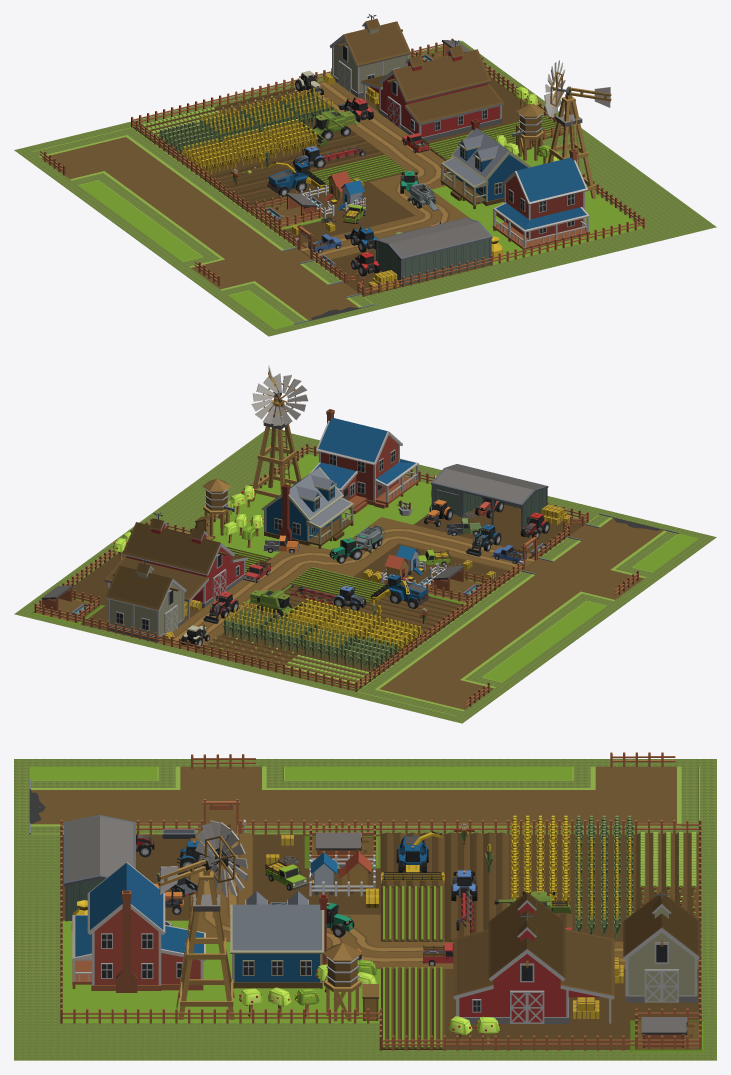
Rendered from homestead2.glb.
3 renders of one model, top to bottom at view 1: azimuth 30°, elevation 25°; view 2: azimuth 150°, elevation 25°; view 3: azimuth 270°, elevation 25°, orthographic. The views are drawn at different scales.
Parts seen in each view (by area): view 1: Plane, Building_Barn_Big_01, Building_Farm_House_03, Building_Shed_01, Building_Cottage_03, road_Dirt_Corner, Building_Barn_Small_03, Env_Grass, road_Dirt_Straight, road_Dirt_Intersection, Env_Dirt, road_Dirt_Straight_2 (+35 smaller); view 2: Plane, Building_Farm_House_03, Building_Barn_Big_01, Building_Cottage_03, Building_Barn_Small_03, Building_Shed_01, road_Dirt_Corner, Env_Grass, road_Dirt_Straight, road_Dirt_Intersection, road_Dirt_Straight_2, Env_Dirt_2 (+37 smaller); view 3: Plane, Building_Barn_Big_01, Building_Farm_House_03, Env_Grass, Building_Cottage_03, Building_Barn_Small_03, road_Dirt_Corner, Env_Dirt_1, road_Dirt_Intersection, Env_Dirt_Plough, road_Dirt_Straight, Env_Crop_Seedling_1 (+50 smaller).
Boxes of the visible parts, box(x1,y1,x2,y2) form: Plane: box(14, 41, 716, 336); Building_Barn_Big_01: box(361, 40, 504, 141); Building_Farm_House_03: box(492, 148, 589, 252); Building_Shed_01: box(375, 217, 492, 285); Building_Cottage_03: box(440, 119, 530, 209); road_Dirt_Corner: box(32, 127, 189, 188); Building_Barn_Small_03: box(330, 14, 410, 97); Env_Grass: box(432, 145, 642, 256); road_Dirt_Straight: box(150, 169, 292, 255); road_Dirt_Intersection: box(182, 238, 299, 298); Env_Dirt: box(248, 182, 413, 244); road_Dirt_Straight_2: box(110, 179, 230, 248); Plane: box(14, 428, 716, 723); Building_Farm_House_03: box(309, 409, 419, 513); Building_Barn_Big_01: box(104, 512, 247, 619); Building_Cottage_03: box(261, 467, 354, 548); Building_Barn_Small_03: box(105, 558, 186, 641); Building_Shed_01: box(431, 464, 548, 530); road_Dirt_Corner: box(357, 649, 502, 715); Env_Grass: box(212, 454, 426, 557); road_Dirt_Straight: box(414, 573, 557, 658); road_Dirt_Intersection: box(535, 549, 652, 609); road_Dirt_Straight_2: box(454, 600, 574, 668); Env_Dirt_2: box(413, 503, 586, 555); Plane: box(14, 759, 716, 1060); Building_Barn_Big_01: box(453, 892, 614, 1023); Building_Farm_House_03: box(72, 862, 205, 992); Env_Grass: box(62, 942, 380, 1022); Building_Cottage_03: box(230, 891, 327, 988); Building_Barn_Small_03: box(623, 891, 700, 1002); road_Dirt_Corner: box(540, 766, 699, 834); Env_Dirt_1: box(444, 969, 699, 1049); road_Dirt_Intersection: box(125, 766, 316, 807); Env_Dirt_Plough: box(444, 832, 508, 941); road_Dirt_Straight: box(253, 807, 540, 834); Env_Crop_Seedling_1: box(381, 967, 444, 1049).
Size of the model in its own units: 112 by 31.67 by 110.
Materials: 3 (3 with a texture image).
